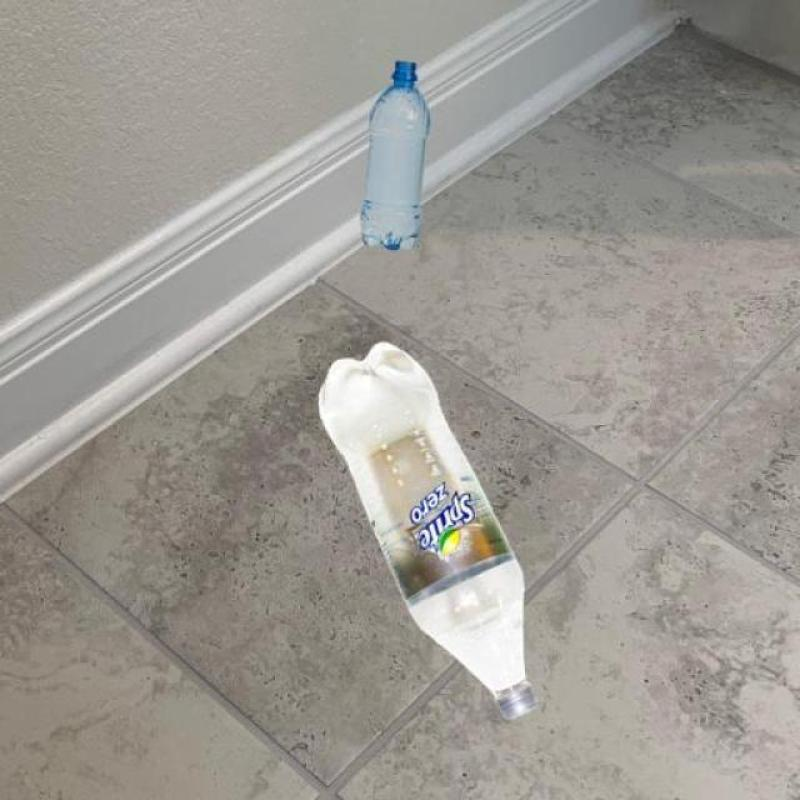botella: (314, 342, 538, 718), (362, 58, 432, 257)
